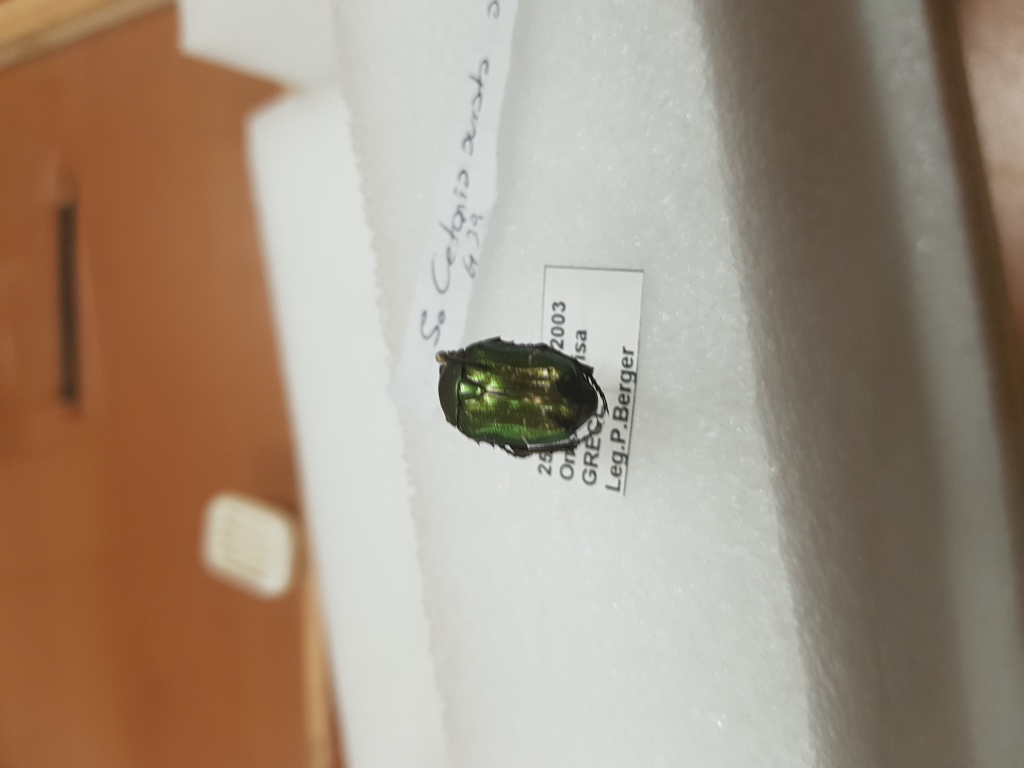Cetonia_aurata: (430, 335, 608, 461)
